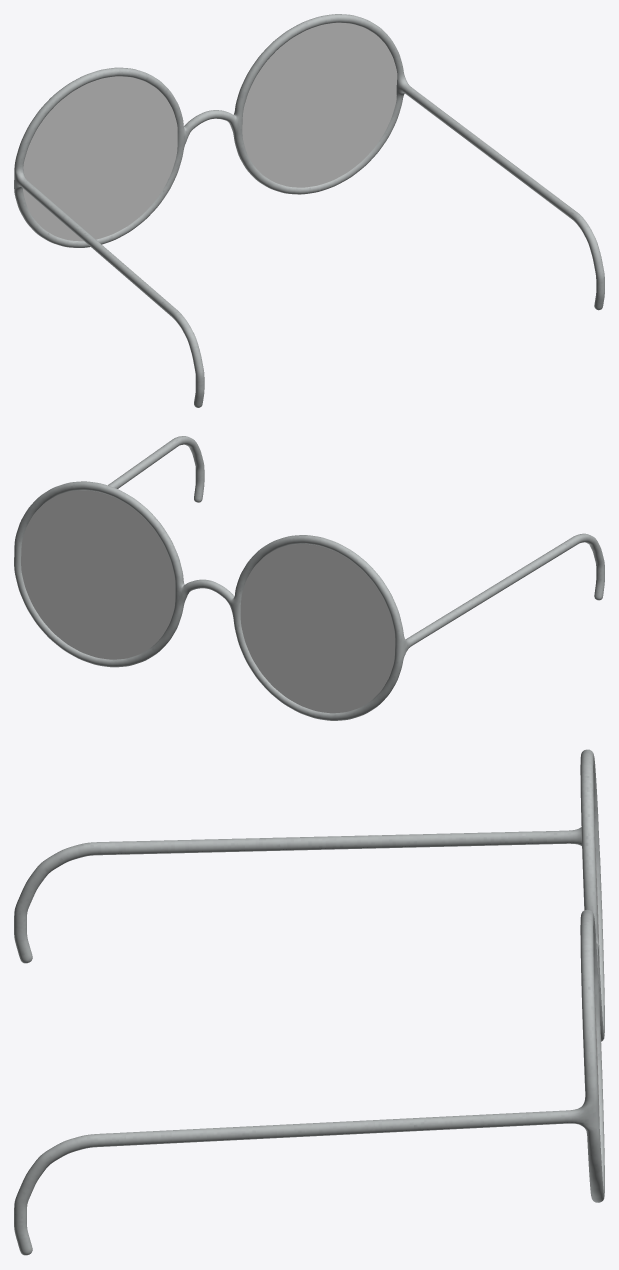
File: redonda-metal.glb
3 renders of one model, top to bottom at view 1: azimuth 30°, elevation 25°; view 2: azimuth 150°, elevation 25°; view 3: azimuth 270°, elevation 25°, orthographic. The views are drawn at different scales.
Parts seen in each view (by area): view 1: lente, Anteojos_1; view 2: lente, Anteojos_1; view 3: Anteojos_1.
Boxes of the visible parts, <box> form: lente: <box>23,22,397,241</box>; Anteojos_1: <box>14,14,604,407</box>; lente: <box>21,490,395,713</box>; Anteojos_1: <box>14,436,604,720</box>; Anteojos_1: <box>14,749,604,1255</box>.
Size of the model in its own units: 0.4055 by 0.1688 by 0.3403.
Materials: 2 (1 with a texture image).
